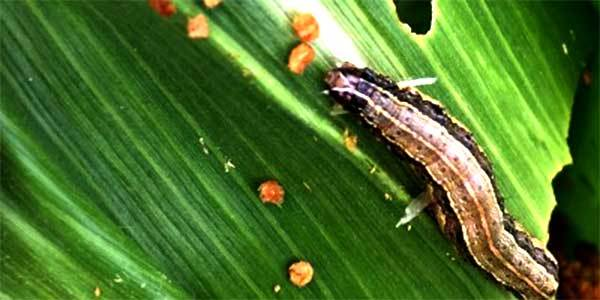Armyworm: (326, 54, 580, 294)
